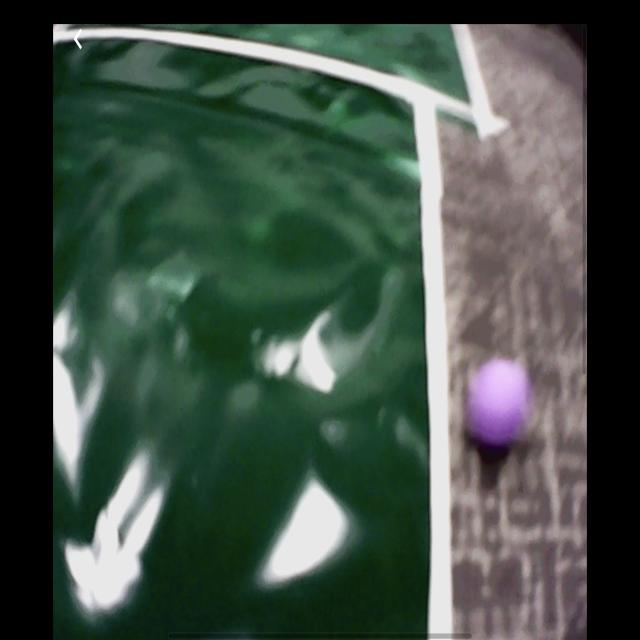ball: (464, 357, 535, 452)
